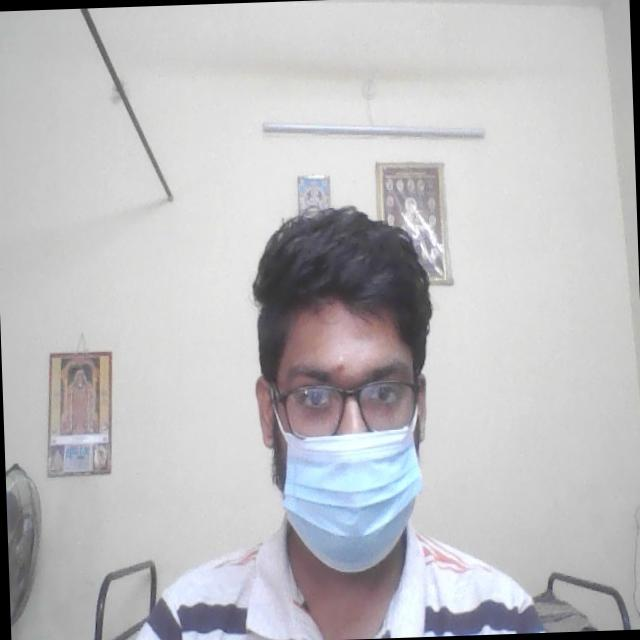Focused: (243, 294, 439, 552)
